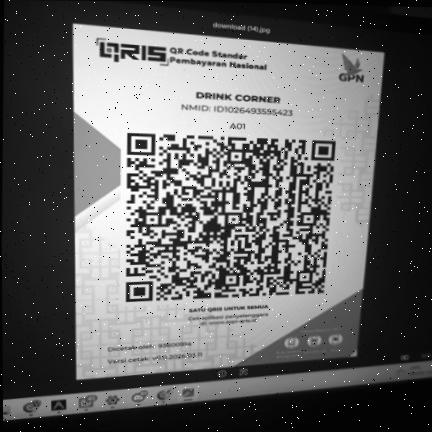Cara Pakai QRIS: (270, 319, 360, 363)
Cek Aplikasi Penyelenggara: (184, 311, 272, 327)
Dicetak Oleh: (105, 338, 196, 354)
Logo GPN: (328, 51, 371, 88)
Logo dan deskripsi QRIS: (89, 29, 274, 77)
Nama Merchant: (192, 88, 285, 106)
National Merchant ID: (179, 101, 297, 117)
QR Code: (117, 128, 343, 308)
Slogan: (184, 302, 272, 315)
Terminal ID: (226, 121, 249, 131)
Versi Cetak: (105, 349, 206, 367)
